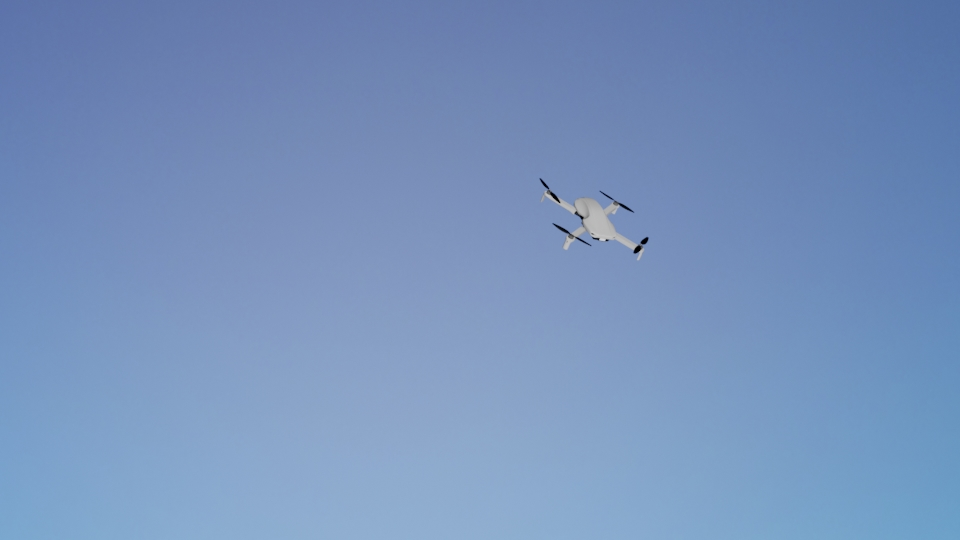drone: (541, 177, 651, 258)
